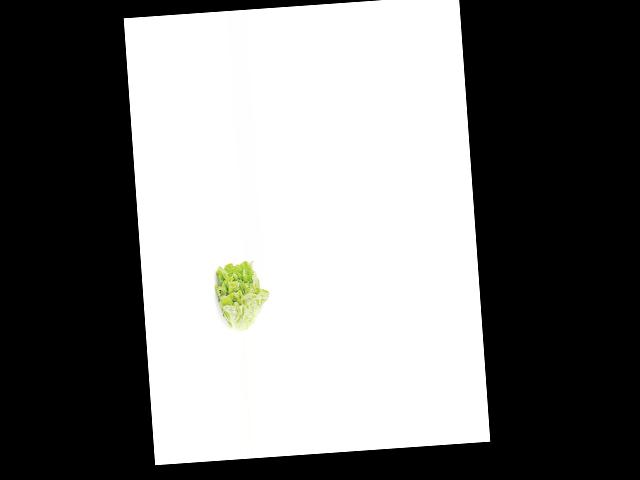lettuce: (209, 259, 270, 332)
